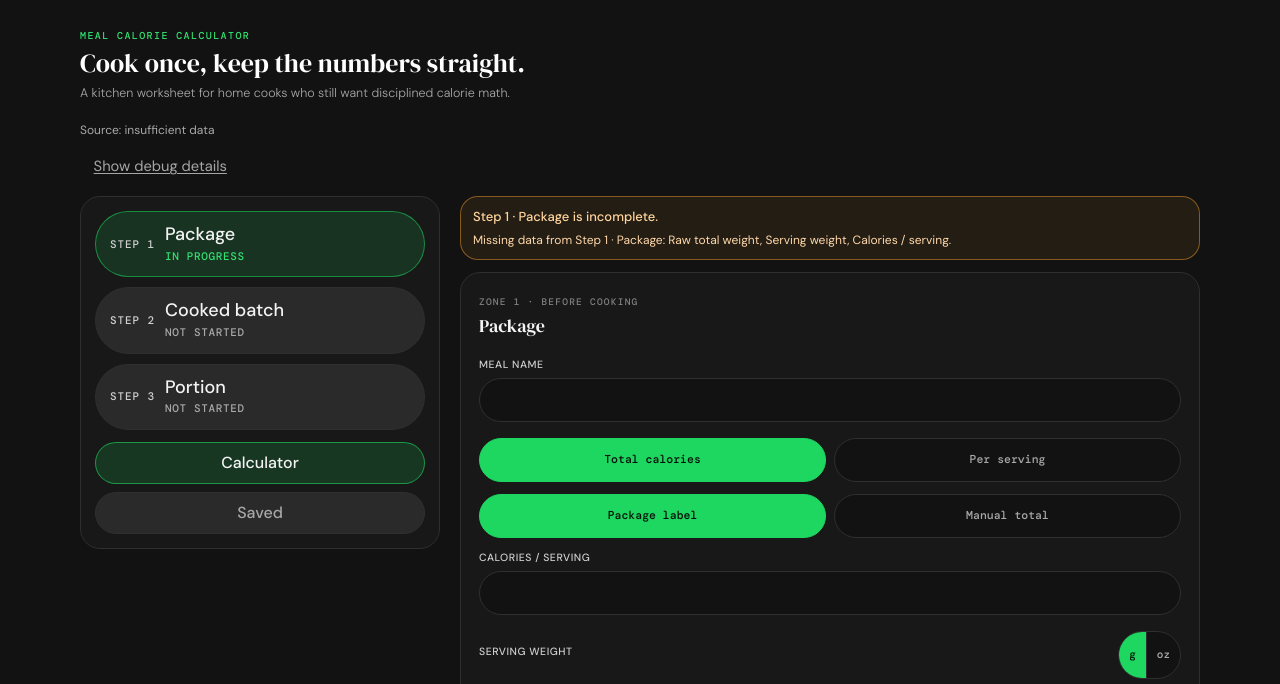
Test: ZoneLayout › renders Zone 3 portion eaten and target calories inputs
Click the button "Step 3 Portion Not started".
click(132, 396)  # box [95,364,425,430]
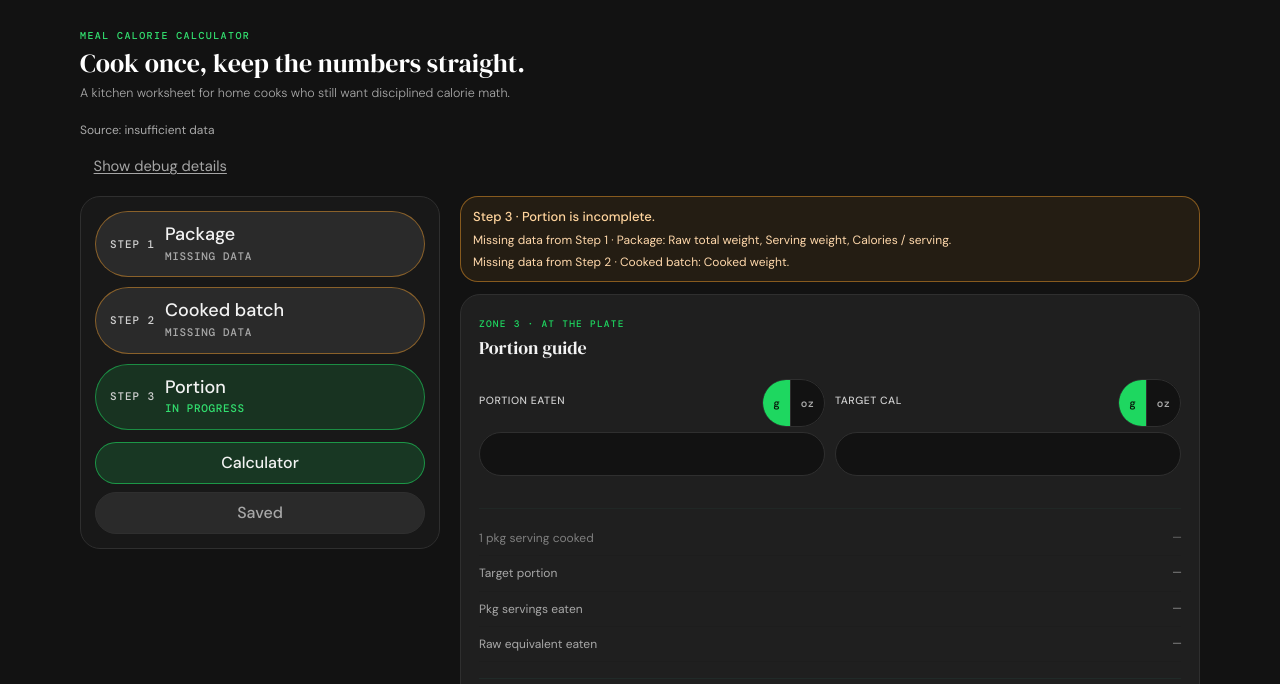
Now the number field labelled "Portion eaten" is shown, box [479,432,825,476]
Now the number field labelled "Target cal" is shown, box [835,432,1181,476]
